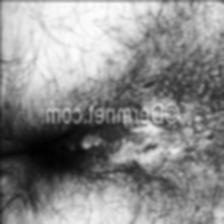Non-Cancerous Skin Condition: (93, 101, 224, 171)
